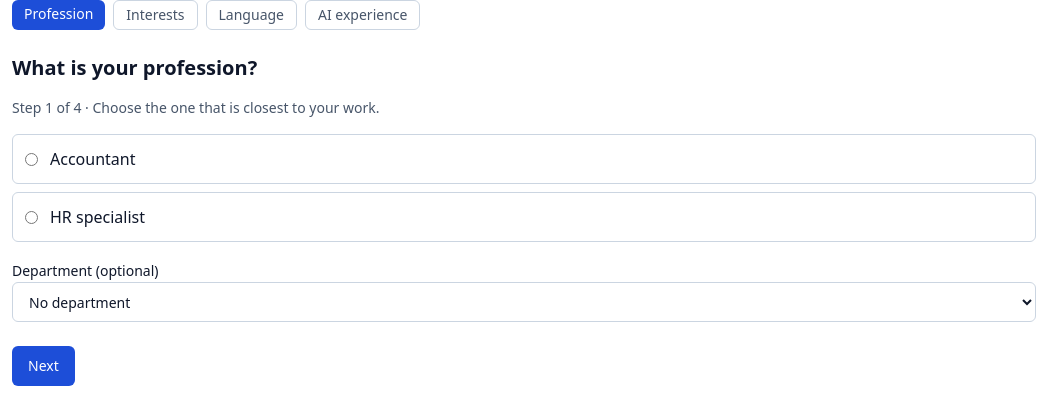
Test: OnboardingStepper › saves the profession and the optional department, then asks about interests
The image size is (1048, 403).
Expected: the heading "What is your profession?" is shown, [12,54,257,81]
Click the radio button labelled "Accountant". click: (32, 159)
box: [25,152,38,166]
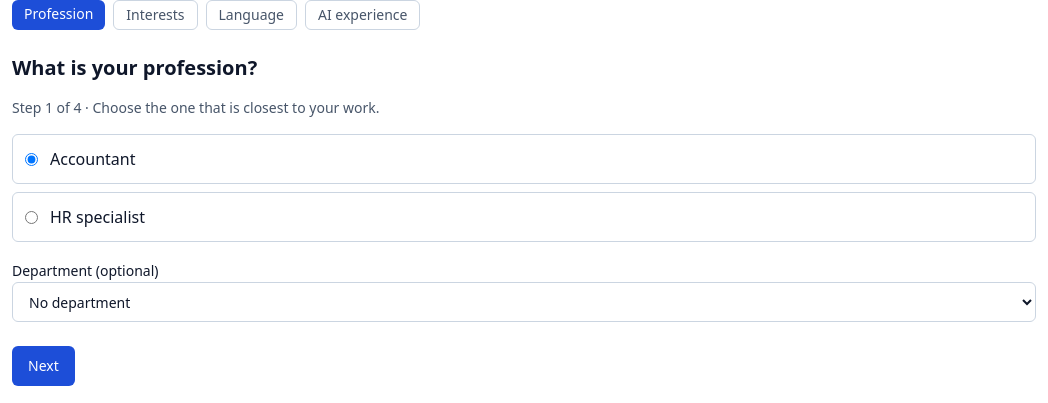
Select "Finance" in the dropdown labelled "Department (optional)". click: (524, 302)
box: [12,282,1036,322]
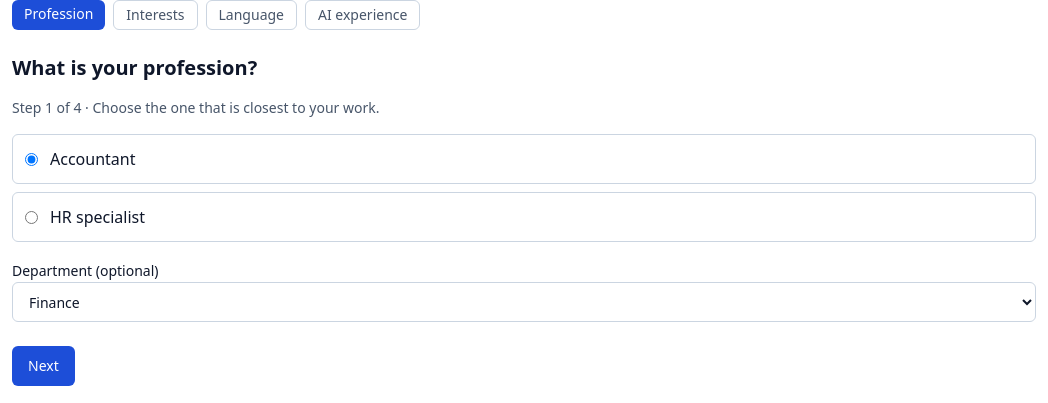
Click the button "Next". click: (43, 366)
box: [12,346,75,386]
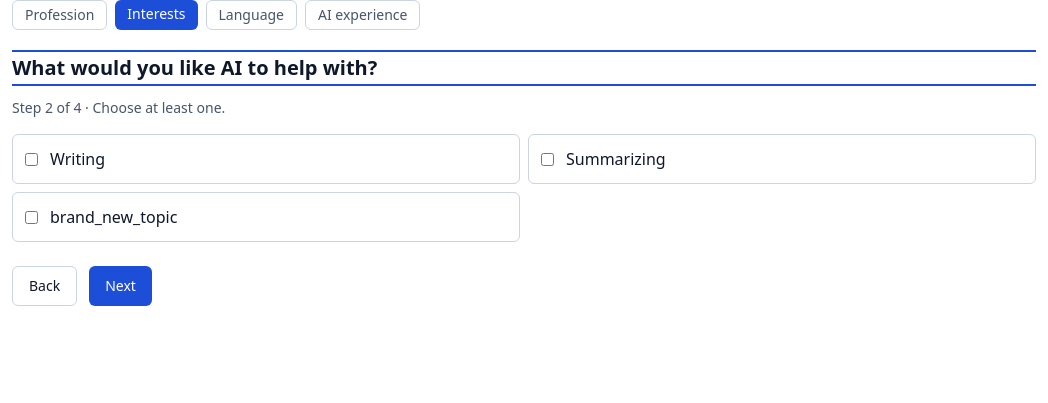
Now the heading reads "What would you like AI to help with?", box [12,54,377,81]
